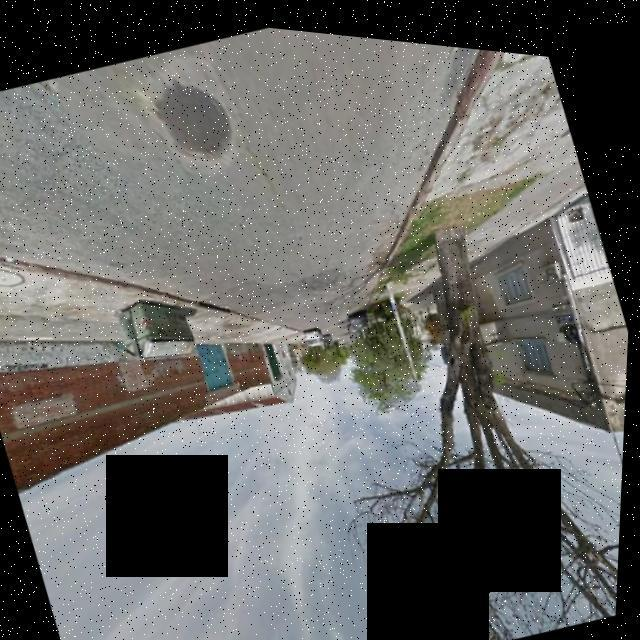bin: (103, 270, 211, 378)
